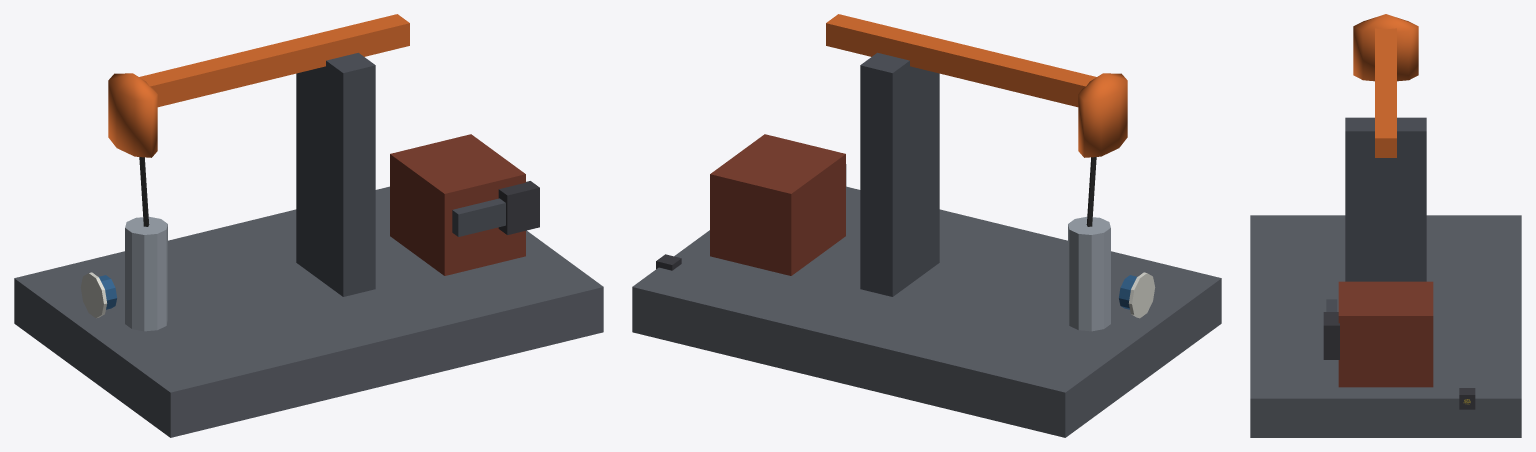
The model's file is OilDerrick@Crank.fbx.
The picture shows the model from 3 angles, left to right: view 1: azimuth 30°, elevation 25°; view 2: azimuth 150°, elevation 25°; view 3: azimuth 270°, elevation 25°; orthographic projection. The views are drawn at different scales.
Visible parts, largest first — view 1: OilDerrick_Body, OilDerrick_Beam, OilDerrick_Crank; view 2: OilDerrick_Body, OilDerrick_Beam; view 3: OilDerrick_Body, OilDerrick_Beam, OilDerrick_Crank.
Boxes of the visible parts, <box> form: OilDerrick_Body: <box>14,52,603,437</box>; OilDerrick_Beam: <box>108,14,409,226</box>; OilDerrick_Crank: <box>452,181,539,236</box>; OilDerrick_Body: <box>632,52,1221,437</box>; OilDerrick_Beam: <box>826,14,1127,226</box>; OilDerrick_Body: <box>1250,117,1521,437</box>; OilDerrick_Beam: <box>1353,14,1418,157</box>; OilDerrick_Crank: <box>1323,299,1339,359</box>.
Bounding box in the file's own units: 1.61 × 1.05 × 1.
